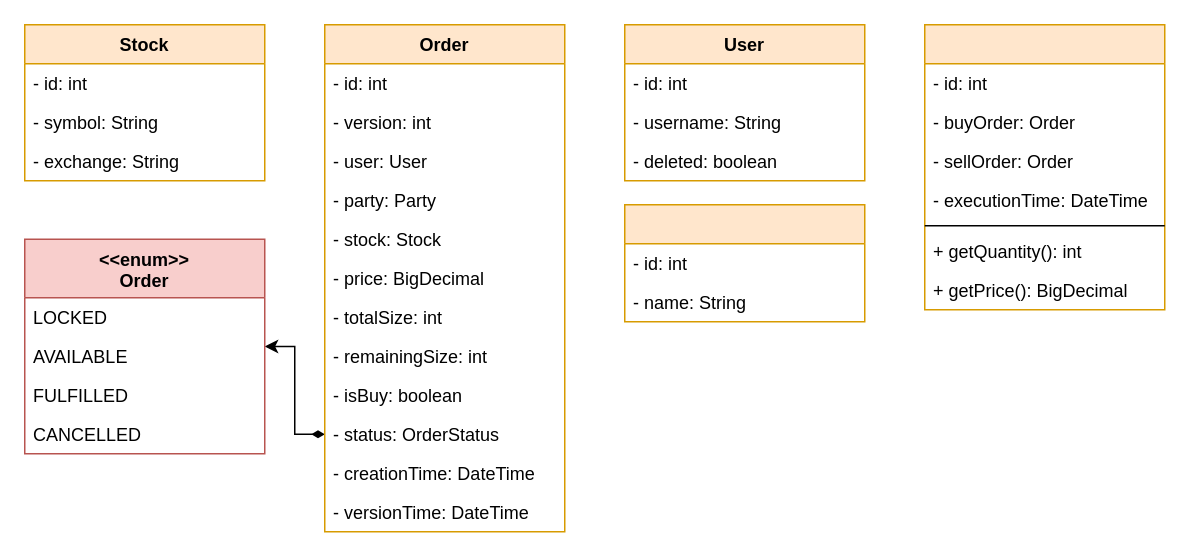
This 1190x557 diagram has some shape labels left out. The box of each missing label's shape, as (x1, y1, x2, y2) in pixels:
Party: (623, 203, 865, 322)
Trade: (923, 23, 1165, 310)
